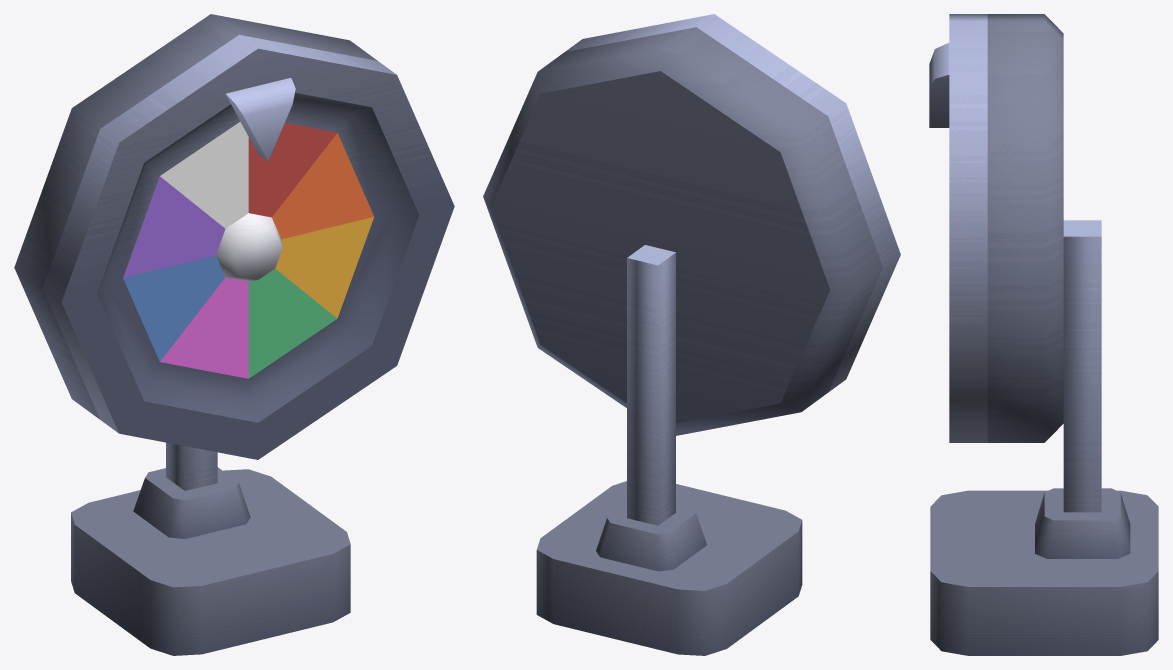
The model's file is prize-wheel.glb.
3 views of the same model, side by side, from view 1: azimuth 30°, elevation 25°; view 2: azimuth 150°, elevation 25°; view 3: azimuth 270°, elevation 25° (orthographic). The views are drawn at different scales.
Visible parts, largest first — view 1: rotate-z, prize-wheel; view 2: rotate-z, prize-wheel; view 3: prize-wheel, rotate-z.
Boxes of the visible parts, x1,y1,x2,y2 form: rotate-z: [14, 14, 454, 459]; prize-wheel: [71, 77, 350, 655]; rotate-z: [483, 14, 900, 435]; prize-wheel: [536, 245, 802, 655]; prize-wheel: [929, 43, 1158, 655]; rotate-z: [949, 14, 1063, 442].
Size of the model in its own units: 0.6 by 0.85 by 0.3015.
1 material, 1 textured.
